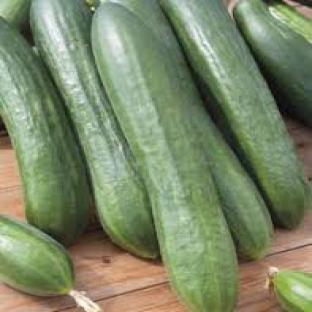Cucumber: (92, 4, 237, 311), (0, 19, 88, 243), (233, 0, 311, 126), (0, 216, 101, 311), (270, 269, 311, 311)
